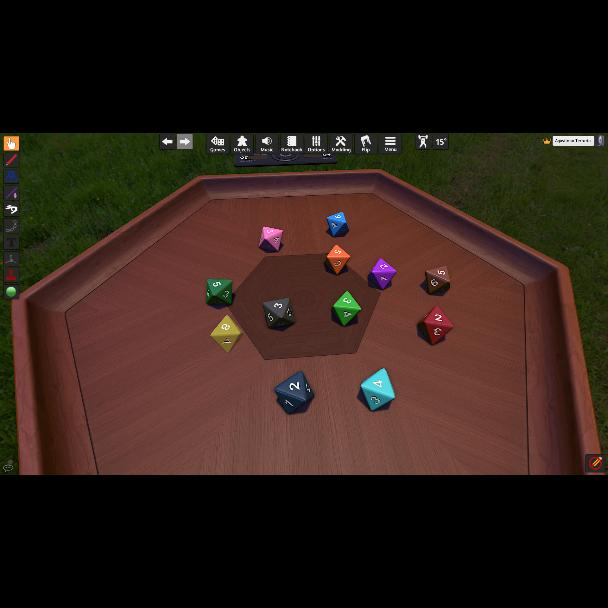d8: (274, 372, 314, 414), (360, 368, 394, 410), (418, 306, 453, 346), (210, 315, 242, 353), (332, 292, 362, 327), (262, 298, 294, 328), (368, 258, 395, 288), (325, 244, 351, 274), (206, 279, 233, 307), (424, 266, 450, 294), (259, 227, 283, 252), (326, 213, 348, 238)
